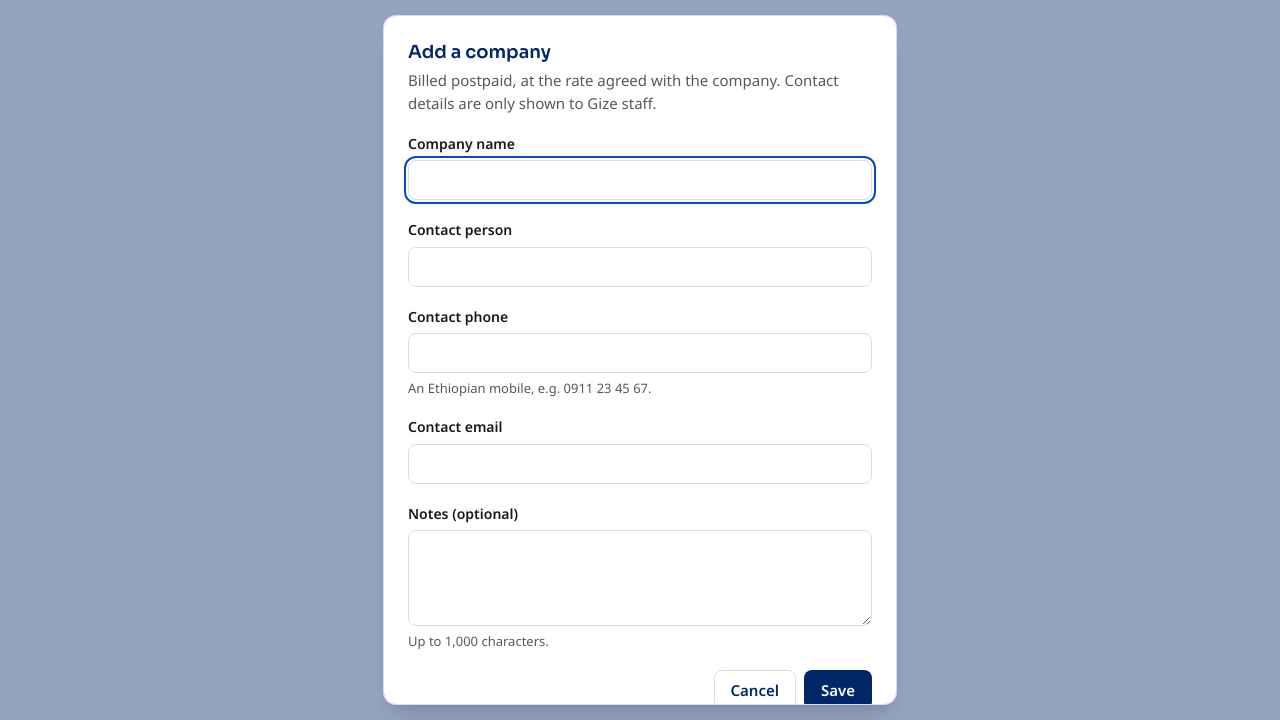
CompanyFormDialog › puts the API's field errors on their fields
The width and height of the screenshot is (1280, 720).
In the field labelled "Company name": (640, 180) x1=408 y1=160 x2=872 y2=200, type "  Ethio Ceramics "
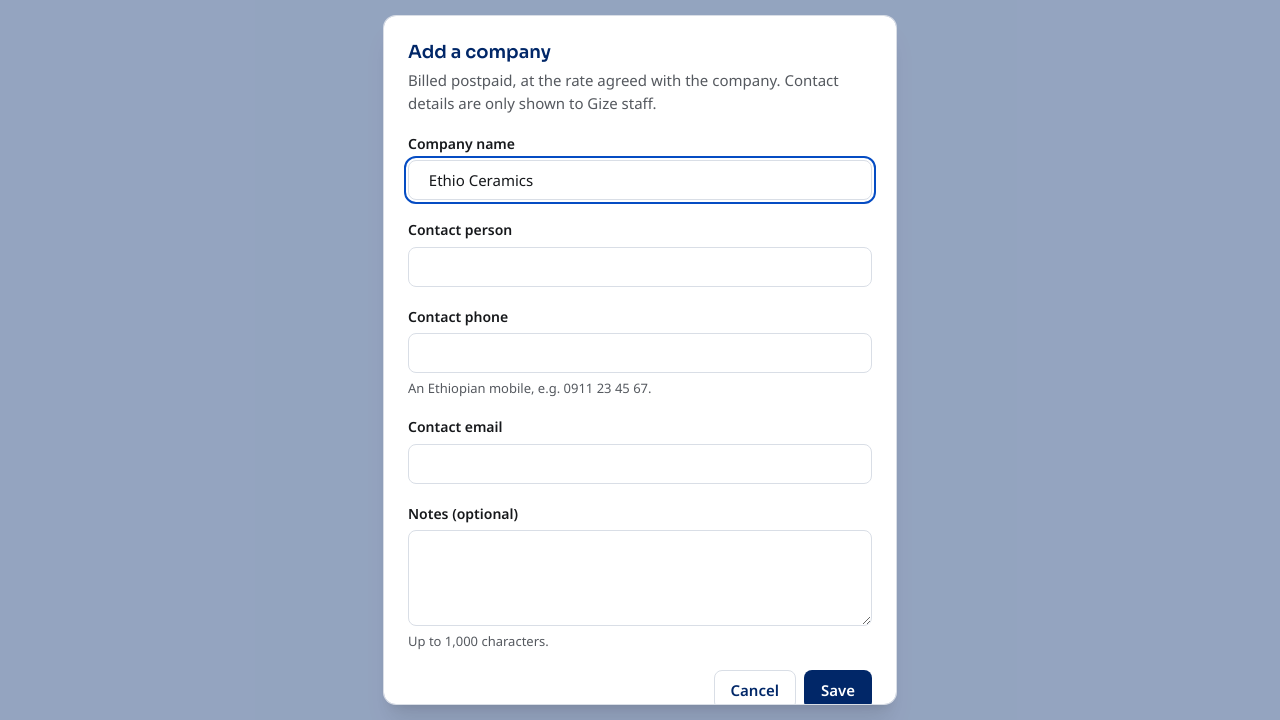
In the field labelled "Contact person": (640, 267) x1=408 y1=247 x2=872 y2=287, type "Dawit Alemu"
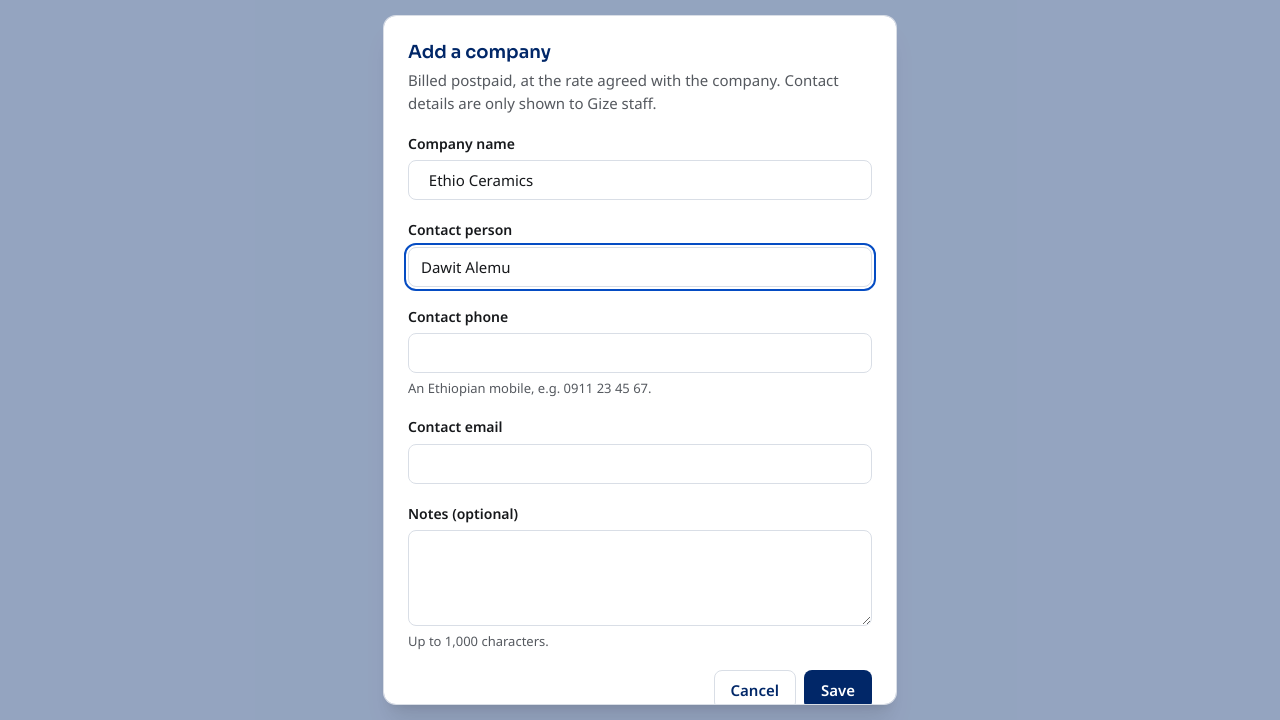
In the field labelled "Contact phone": (640, 353) x1=408 y1=333 x2=872 y2=373, type "0922 34 56 78"
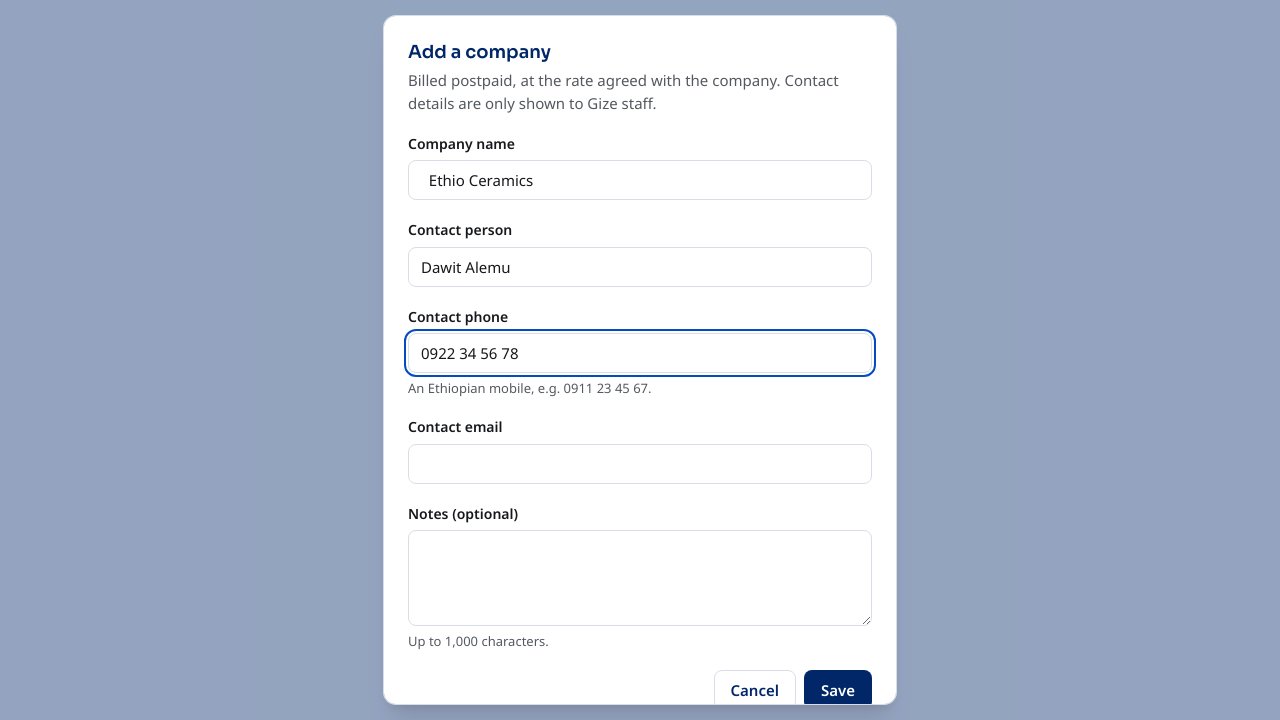
In the field labelled "Contact email": (640, 464) x1=408 y1=444 x2=872 y2=484, type "Dawit@Ceramics.test"
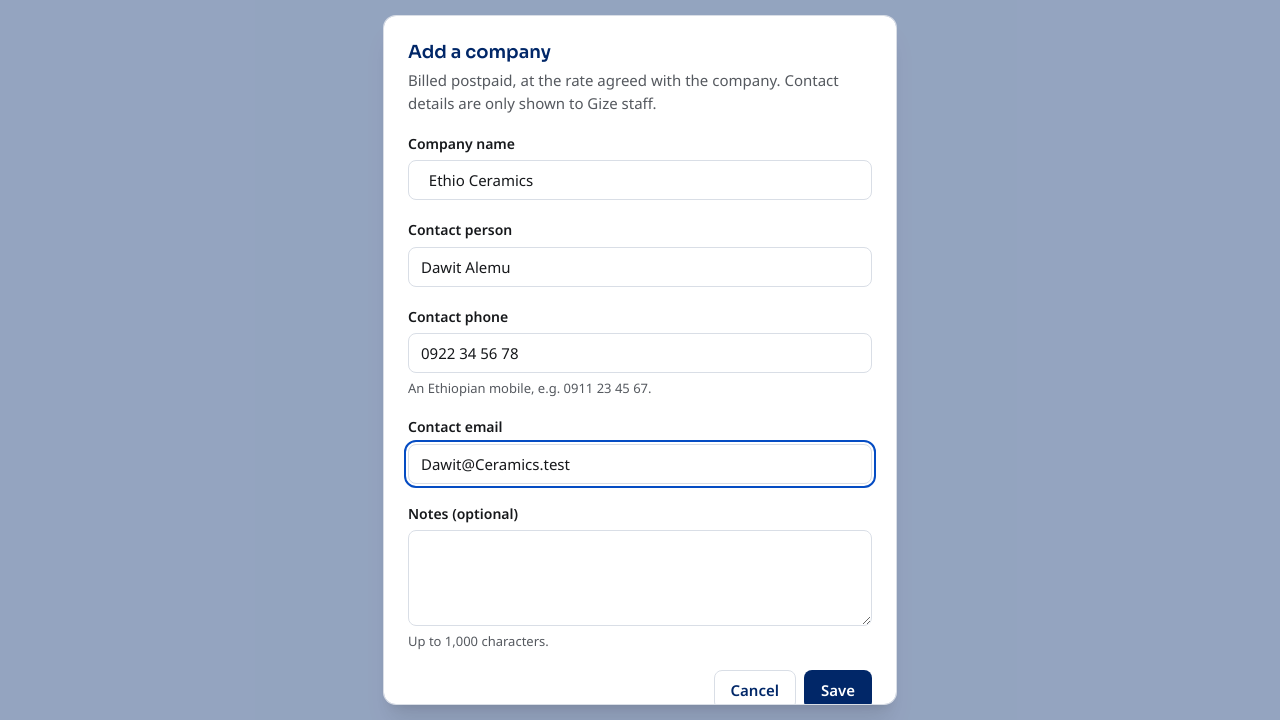
Click the button "Save": (838, 690) x1=804 y1=670 x2=872 y2=710
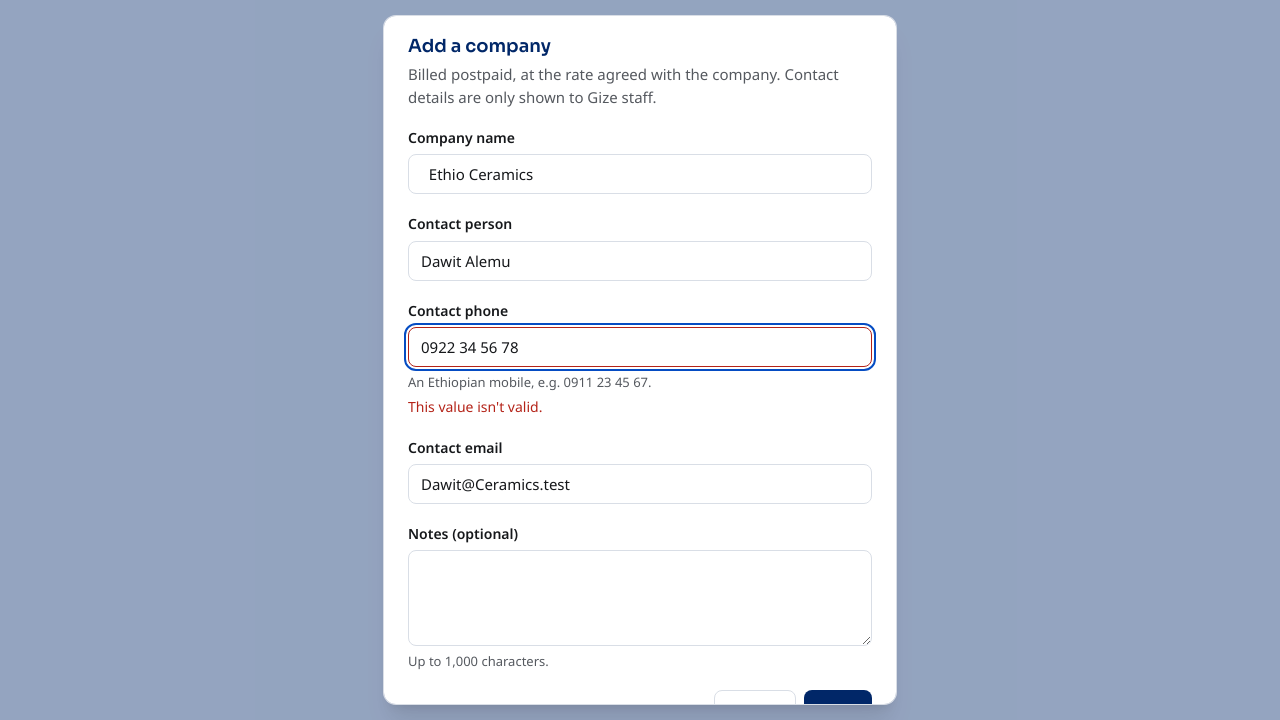
Now the field labelled "Contact phone" is marked as invalid, box x1=408 y1=327 x2=872 y2=367
